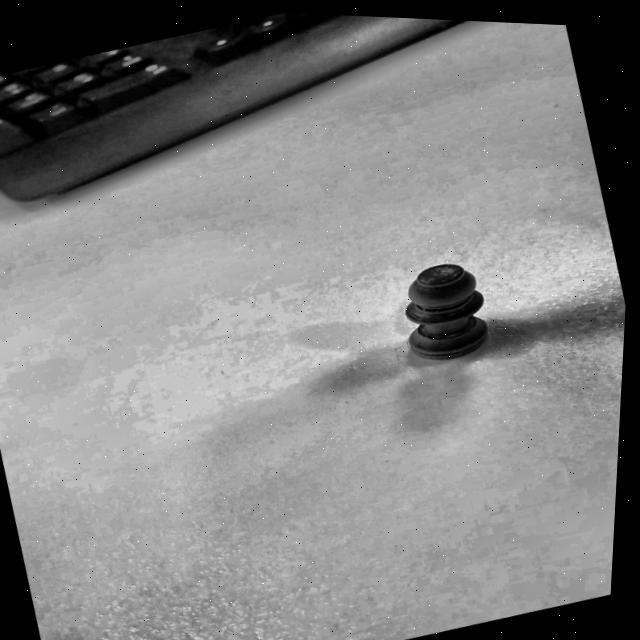black-bishop: (365, 245, 510, 379)
